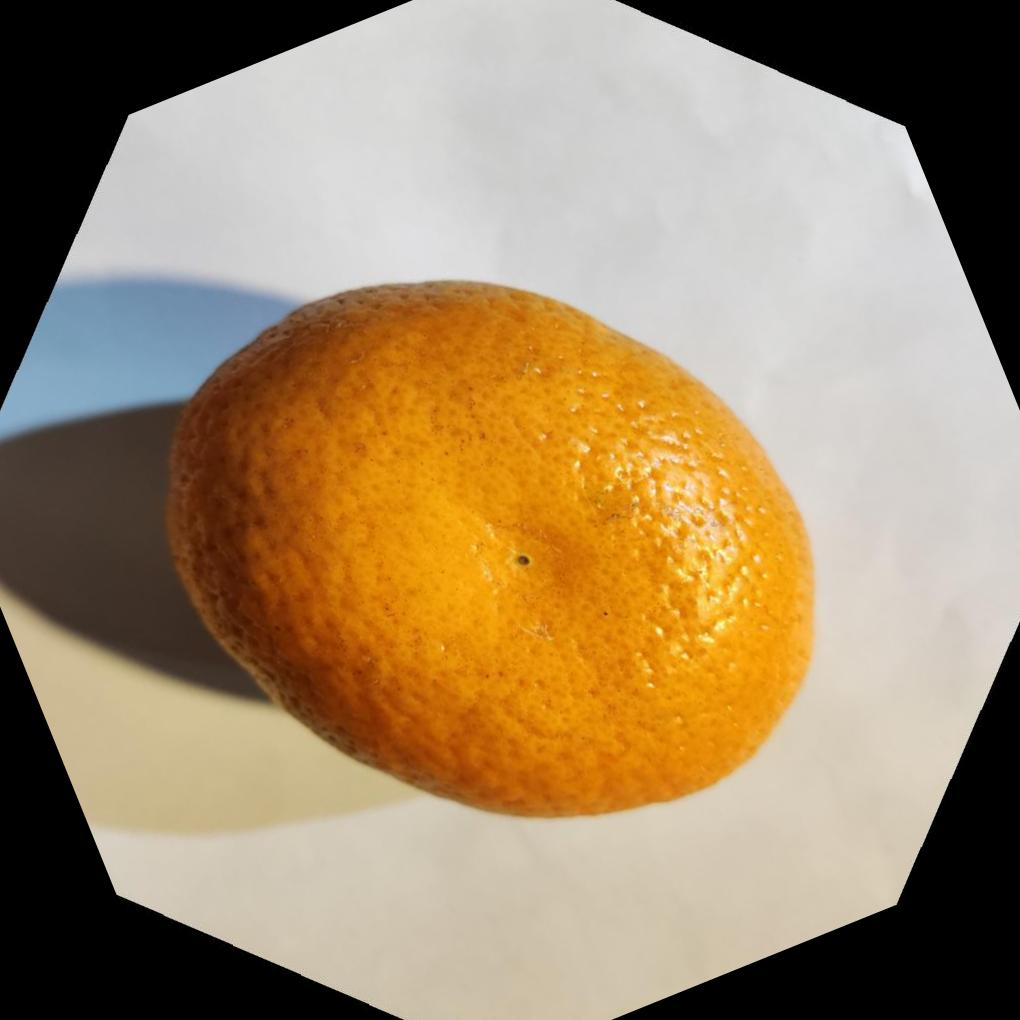FreshGuava: (156, 278, 813, 821)
